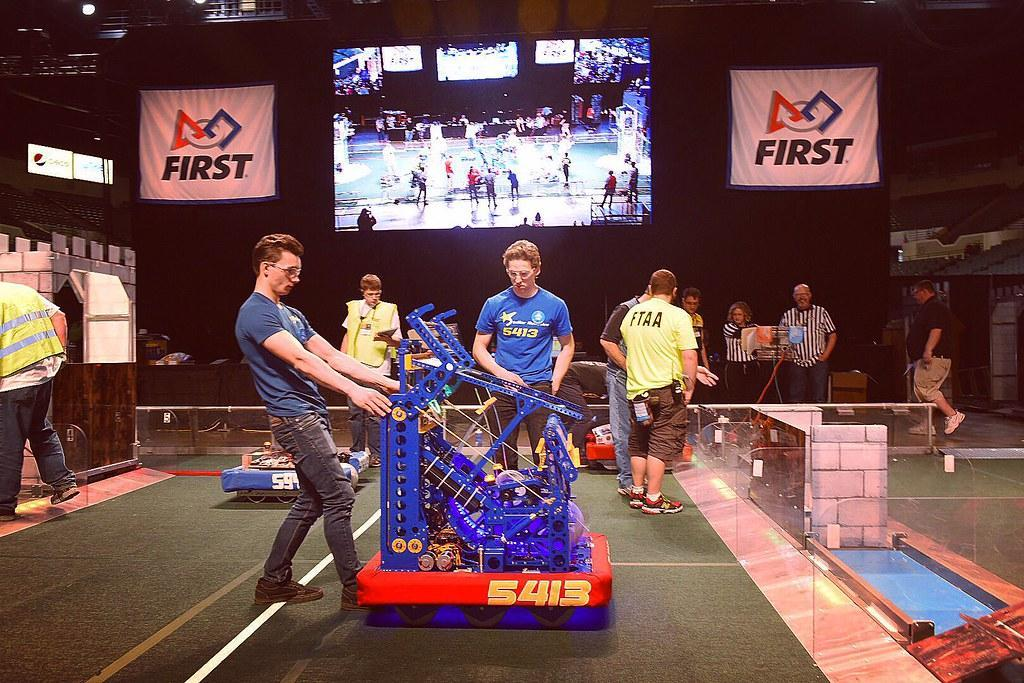robot: (357, 292, 622, 636)
